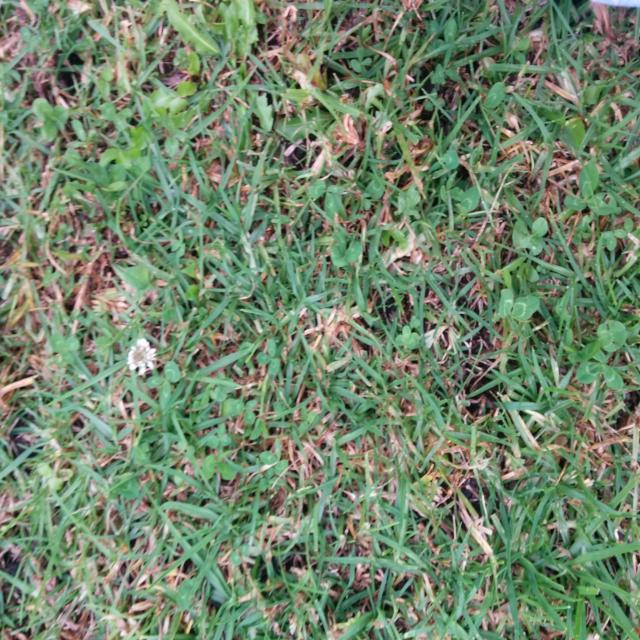Four Leaf Clover: (395, 325, 419, 349)
